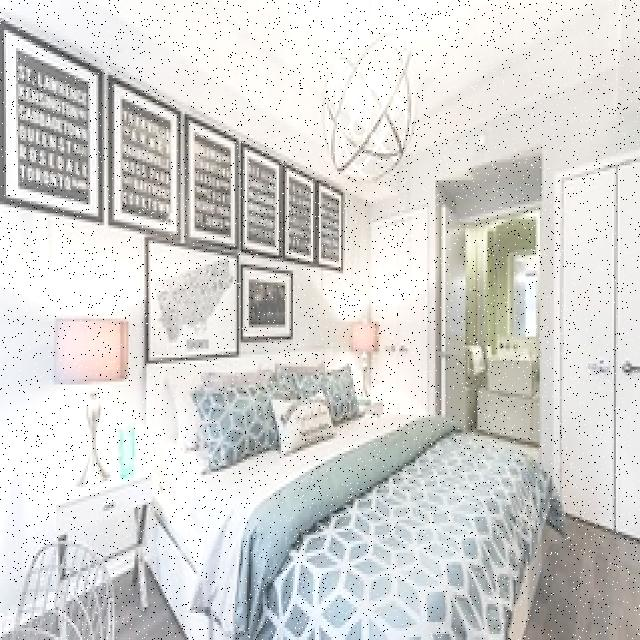bed: (148, 357, 539, 640)
